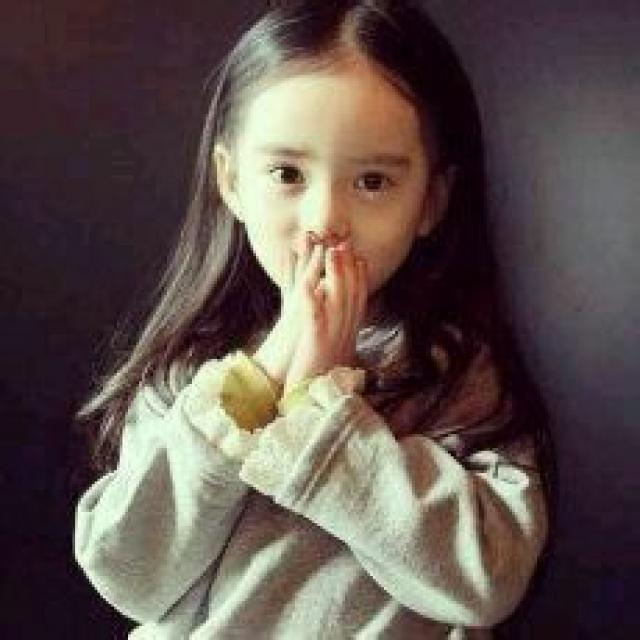nomask: (234, 72, 423, 306)
